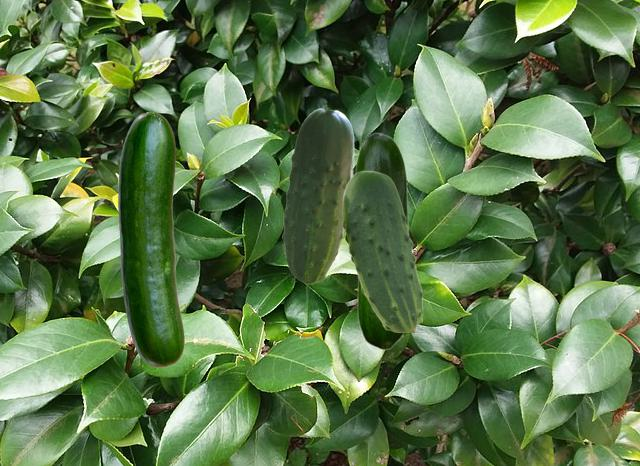cucumber: (118, 112, 183, 366), (342, 170, 421, 331), (282, 108, 353, 283), (355, 132, 409, 349)
